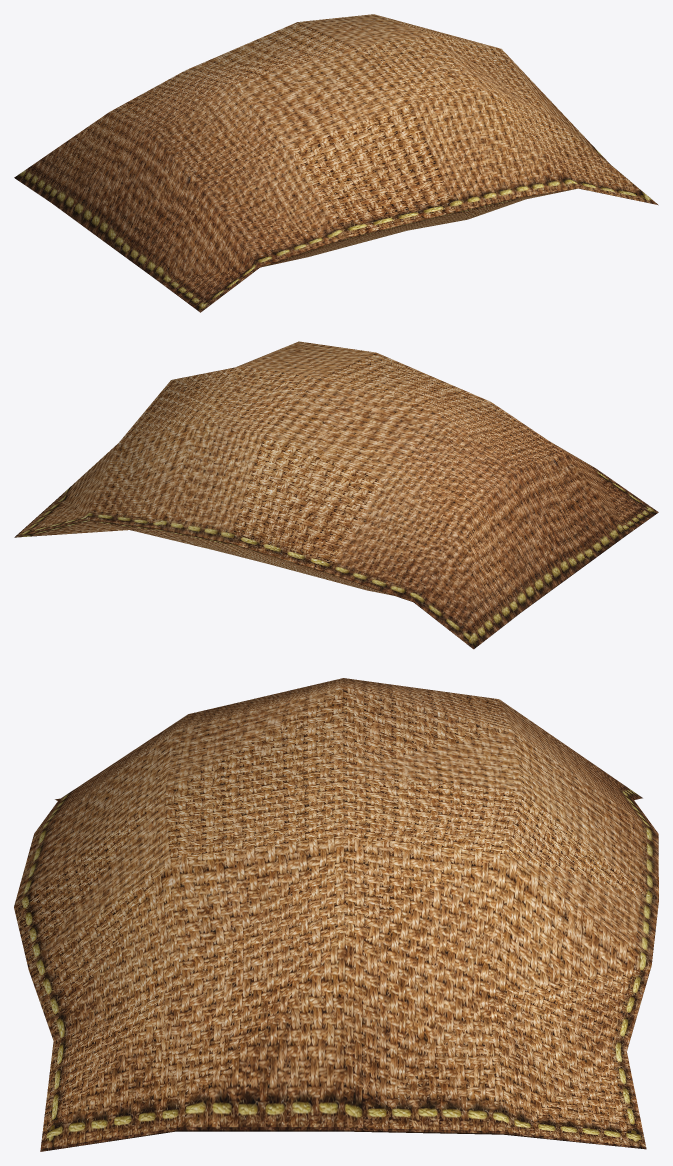
The model's file is mm9_deco_sack02.glb.
3 views of the same model, one above another, from view 1: azimuth 30°, elevation 25°; view 2: azimuth 150°, elevation 25°; view 3: azimuth 270°, elevation 25° (orthographic). The views are drawn at different scales.
Visible parts, largest first — view 1: Sack02; view 2: Sack02; view 3: Sack02.
Boxes of the visible parts, x1,y1,x2,y2 form: Sack02: [14, 14, 658, 312]; Sack02: [14, 341, 658, 649]; Sack02: [14, 678, 658, 1151].
Bounding box in the file's own units: 1 × 0.3153 × 0.7625.
1 material, 1 textured.
